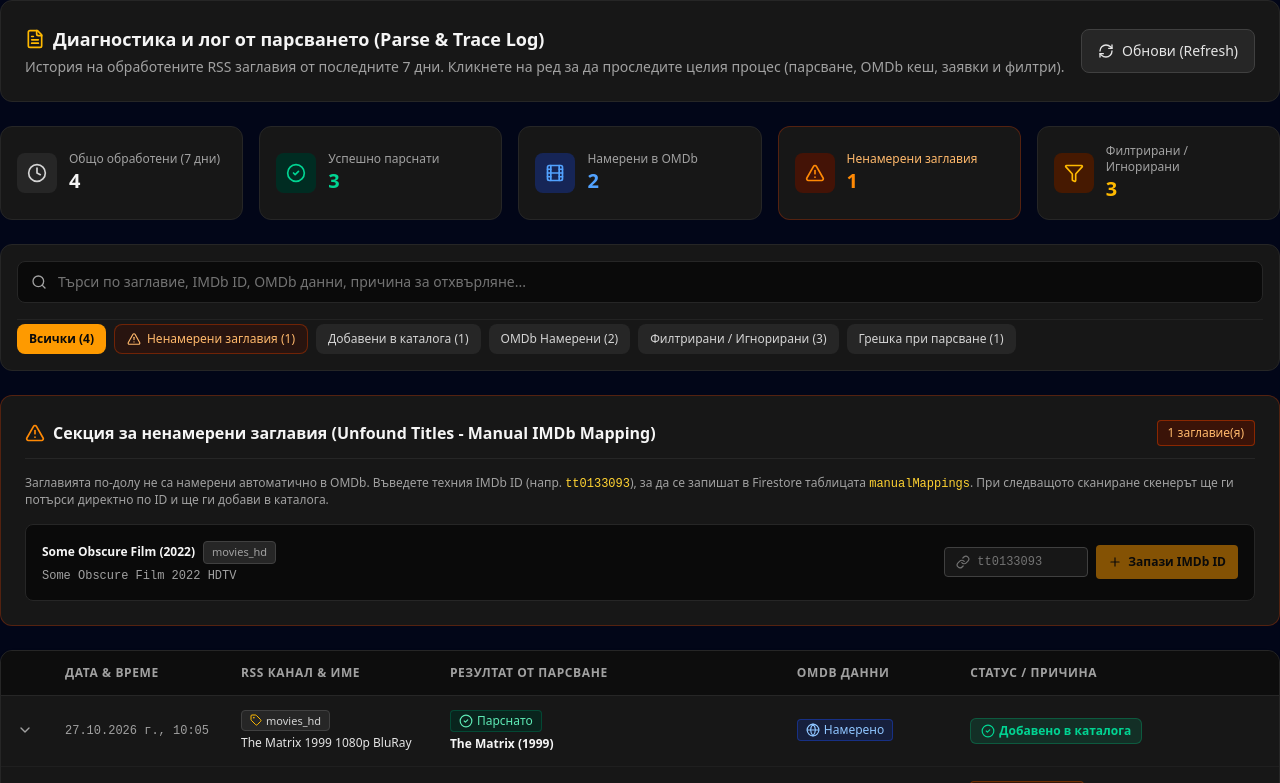
it: ParseLogView › filters logs by search input
Expected: the text with test id "metric-total" reads "4", [69,167,80,194]
Replace the text in the field with test id "parse-log-search-input" with "Matrix" at (640, 282), box [17,261,1263,303]
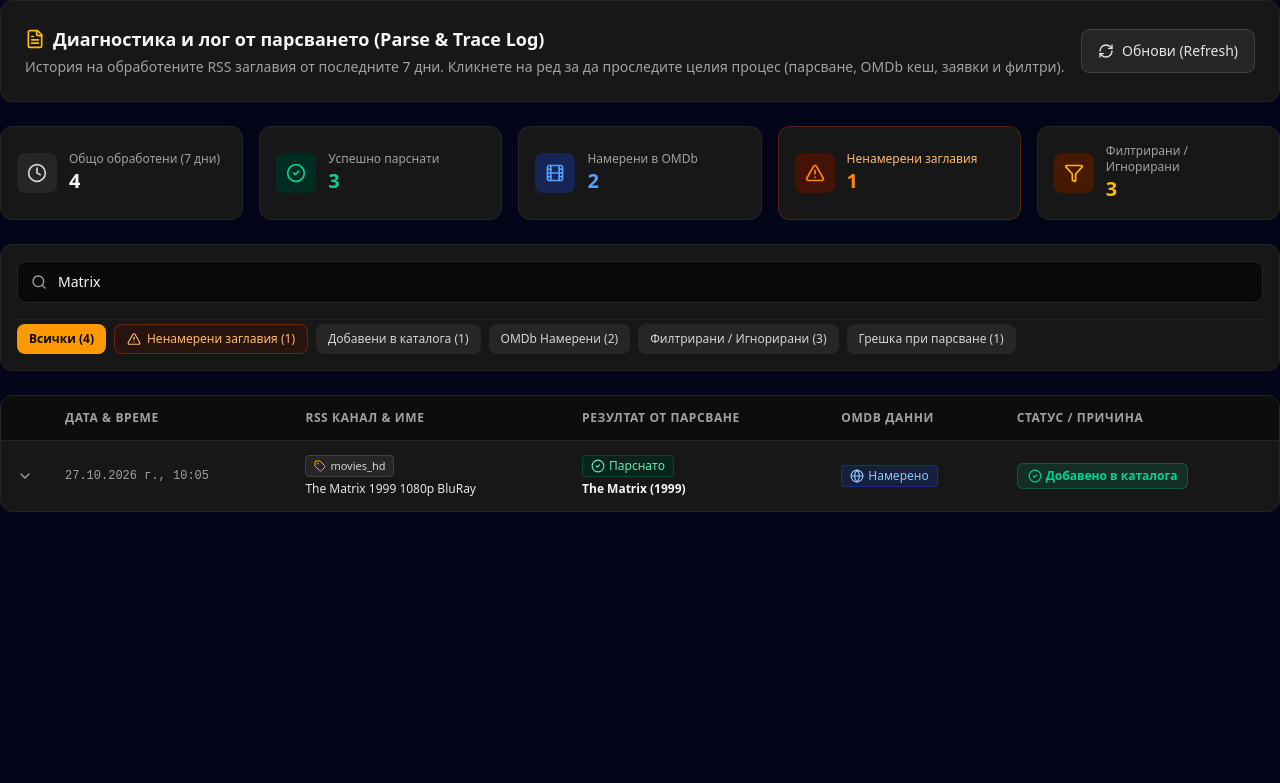
Expected: the text "The Matrix 1999 1080p BluRay" is shown, [305,480,476,497]
Now the text "Some Obscure Film 2022 HDTV" is gone
